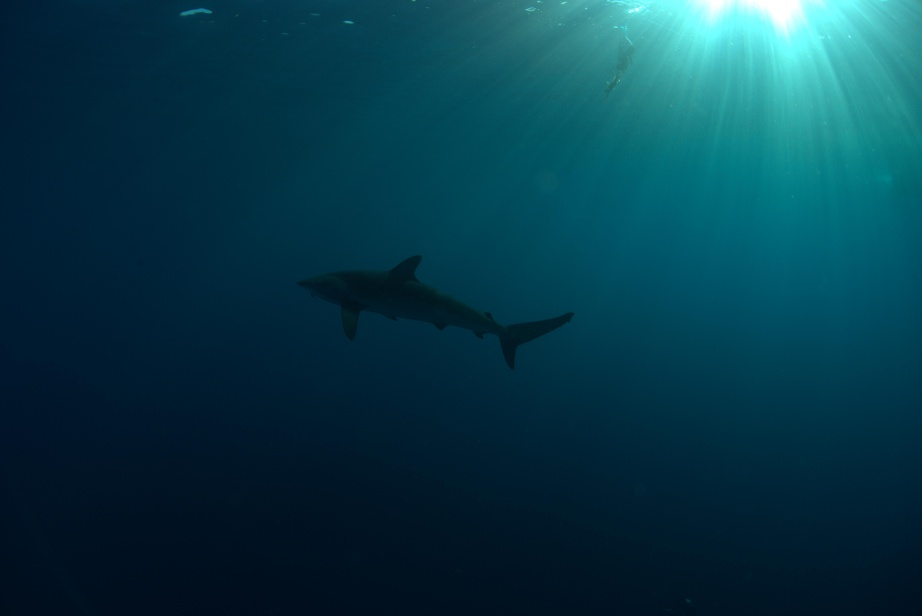Sedoso: (289, 248, 584, 374)
